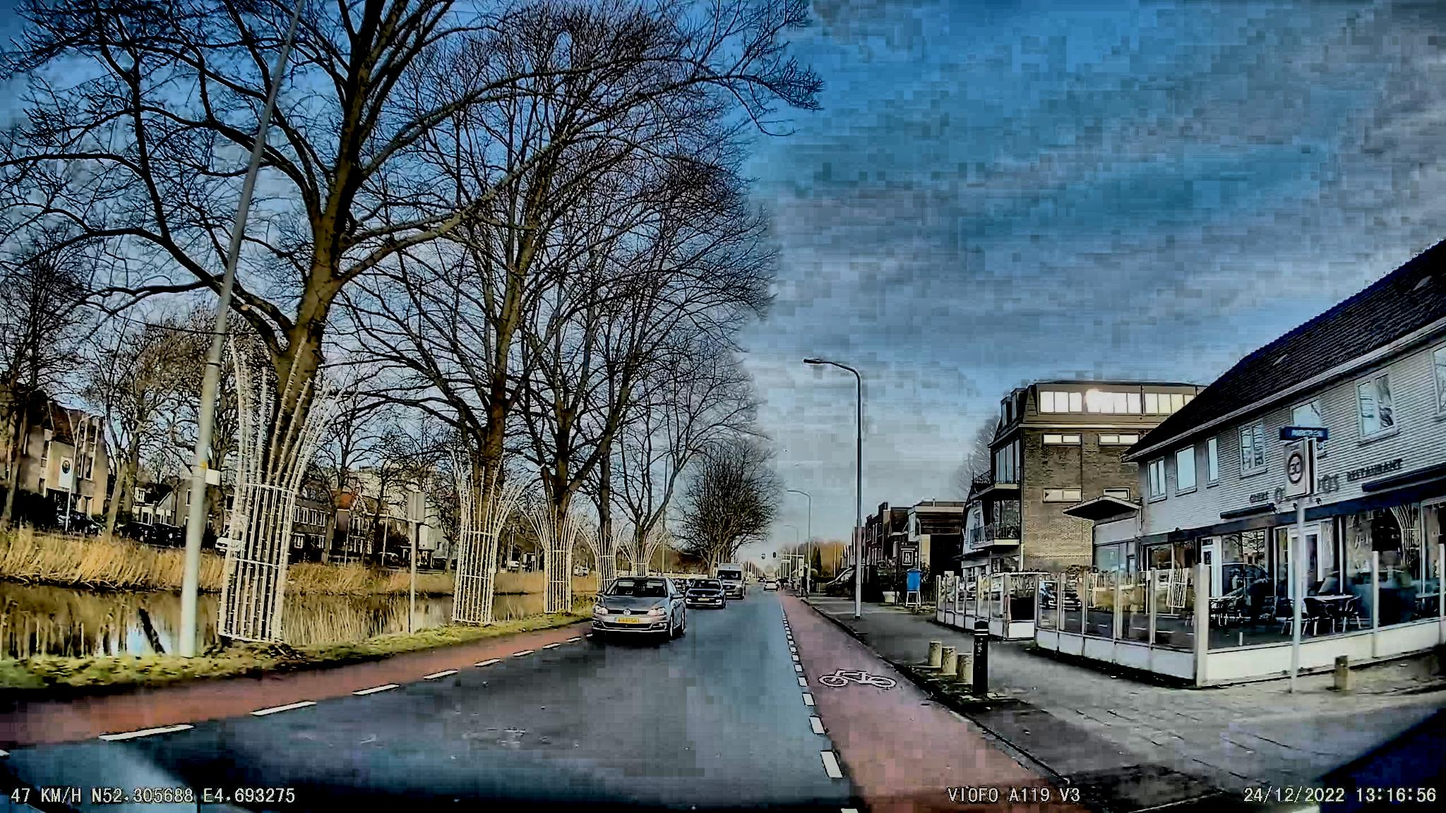Roads: (0, 591, 1062, 813)
